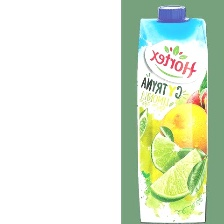carton: (130, 1, 217, 224)
